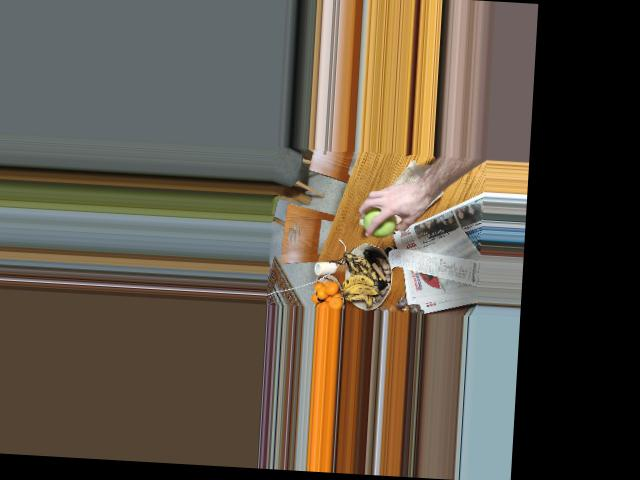apple: (361, 203, 400, 237)
